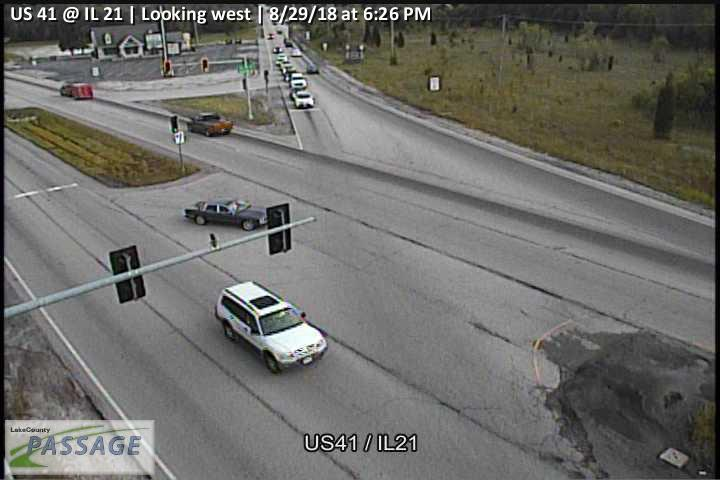SUV: (215, 279, 327, 373), (187, 111, 233, 137), (291, 90, 315, 109), (289, 72, 307, 90)
Sedan: (184, 196, 272, 231)
Truck: (59, 81, 94, 100)
